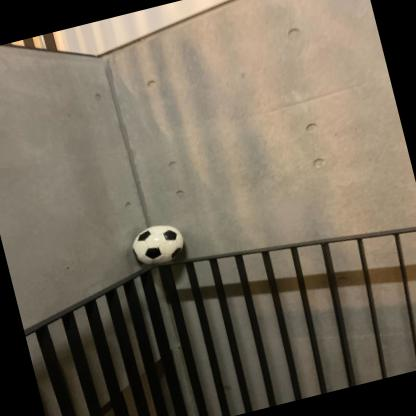ball: (131, 221, 188, 270)
